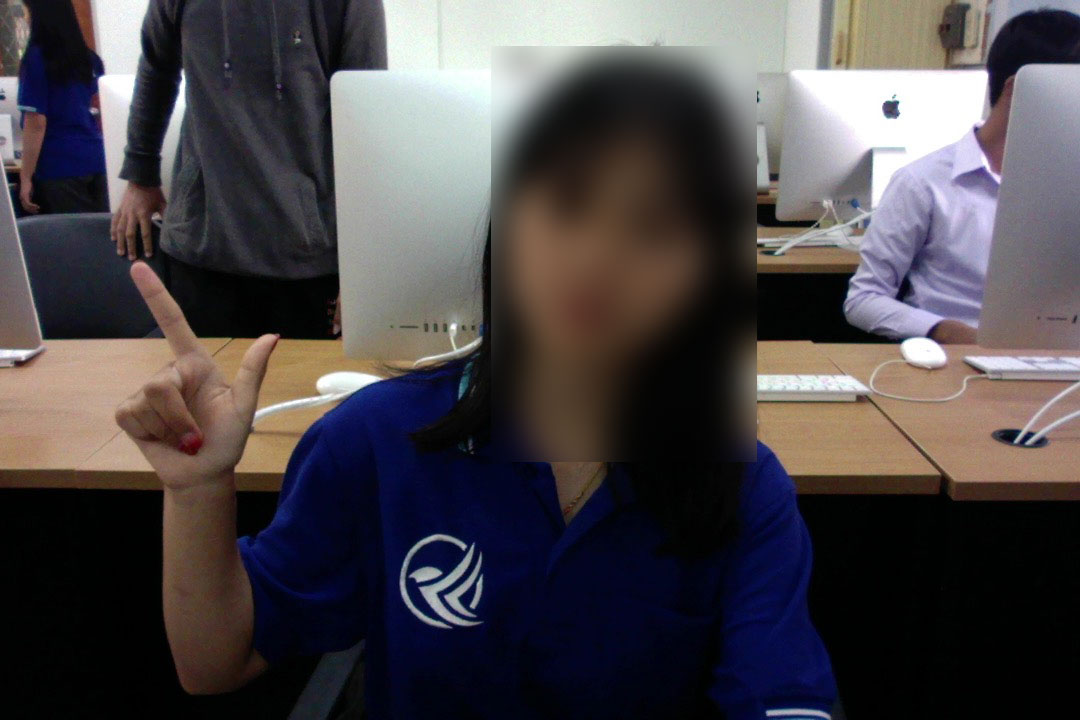lor: (106, 248, 300, 502)
